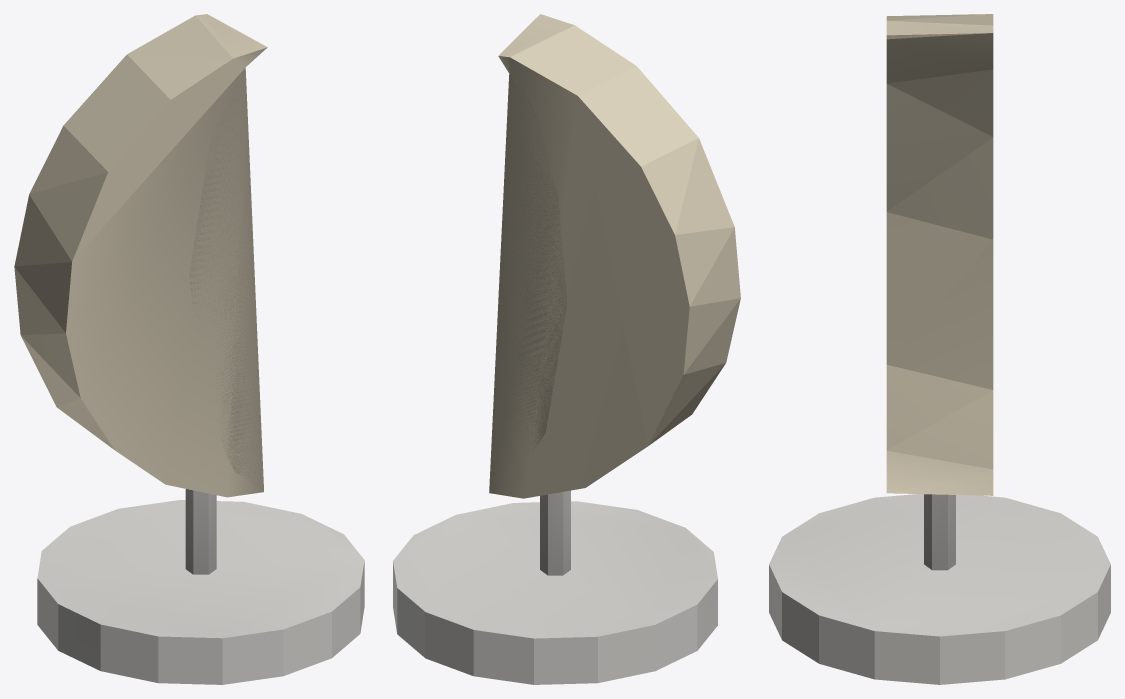
File: furn_moon_lamp__white_low.glb
3 views of the same model, side by side, from view 1: azimuth 30°, elevation 25°; view 2: azimuth 150°, elevation 25°; view 3: azimuth 270°, elevation 25° (orthographic). The views are drawn at different scales.
Size of the model in its own units: 0.3402 by 0.6178 by 0.32.
